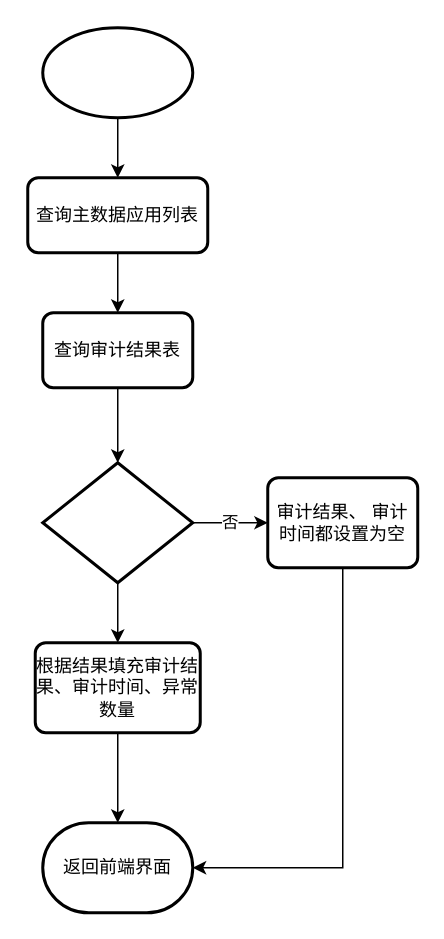
The diagram is 444 pixels wide and 939 high, and some of its shapes have lost their labels. Here are the shapes that lost their labels. From the top down, the box of each, then its label:
(40, 26, 194, 118): 输入主数据名称
(40, 460, 194, 584): 是否有最新审计结果
